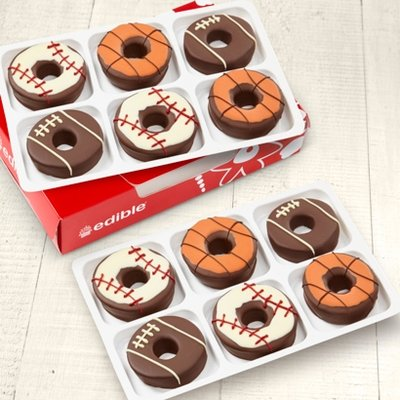salad: (211, 282, 298, 360), (91, 244, 175, 322), (113, 87, 199, 161), (126, 315, 208, 389), (180, 216, 259, 290), (7, 40, 87, 111), (302, 252, 379, 325), (208, 68, 285, 140), (26, 109, 104, 179), (96, 22, 172, 91), (266, 197, 340, 263), (182, 13, 257, 75)
